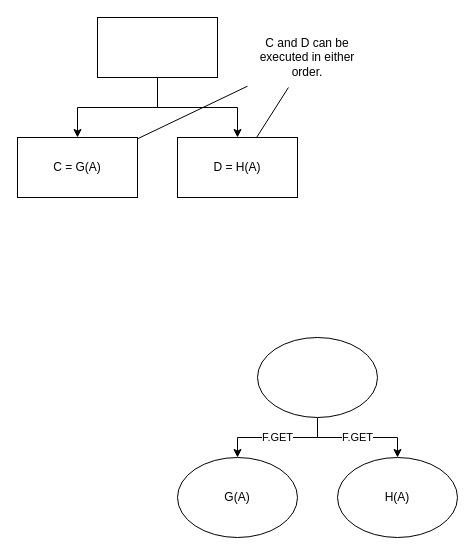
Some shapes in this 475 by 555 pixel diagram are drawn without their labels. Each missing label, with the box of its shape:
A = F(B): (96, 16, 218, 78)
F(B): (256, 336, 378, 418)
